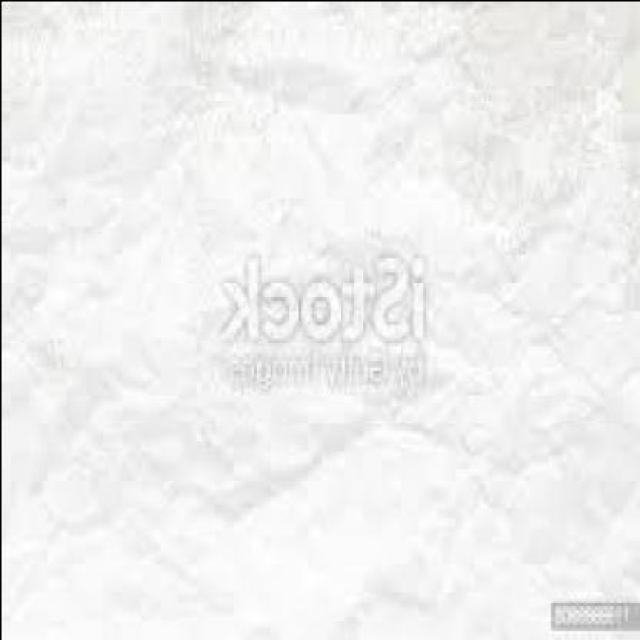PAPER: (0, 1, 638, 600)
